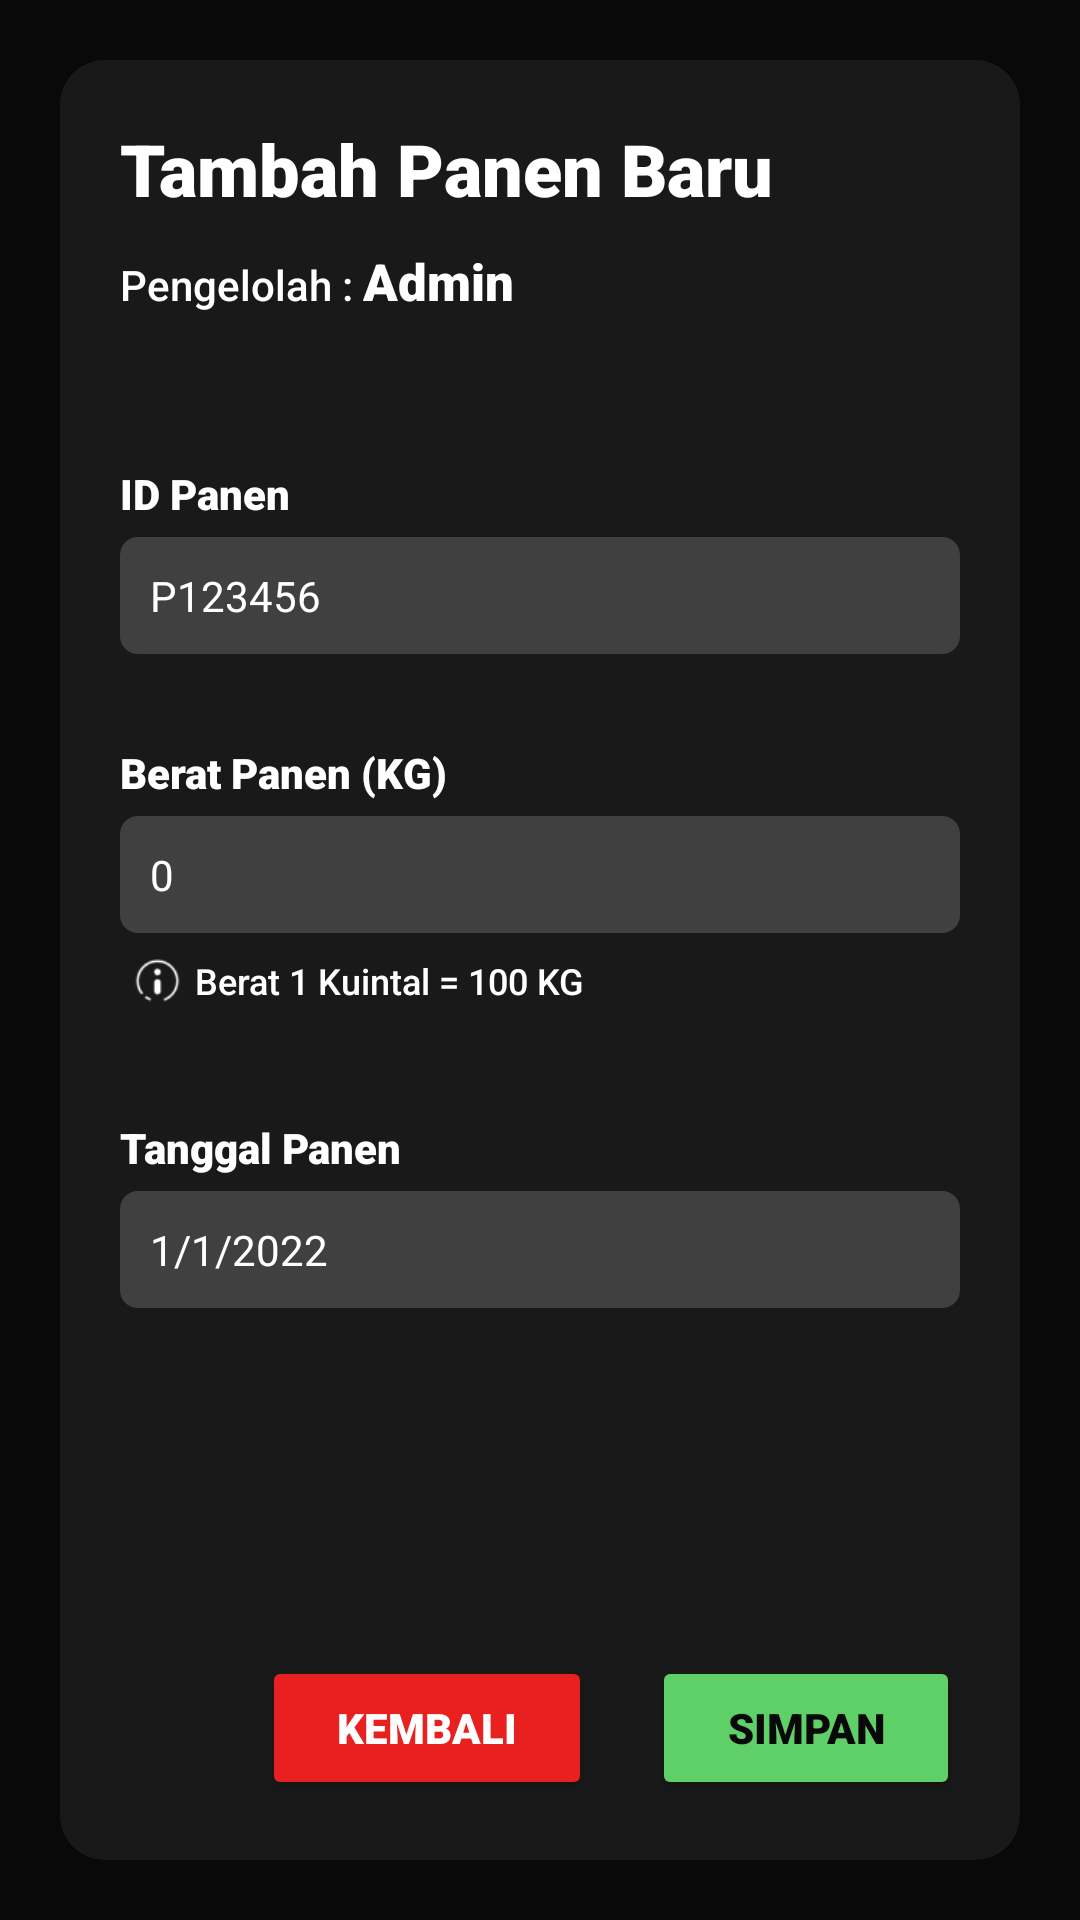

Point at icon controls on the screen. Image size 1080 × 1920, points as point (x, y).
info: point (157, 980)
